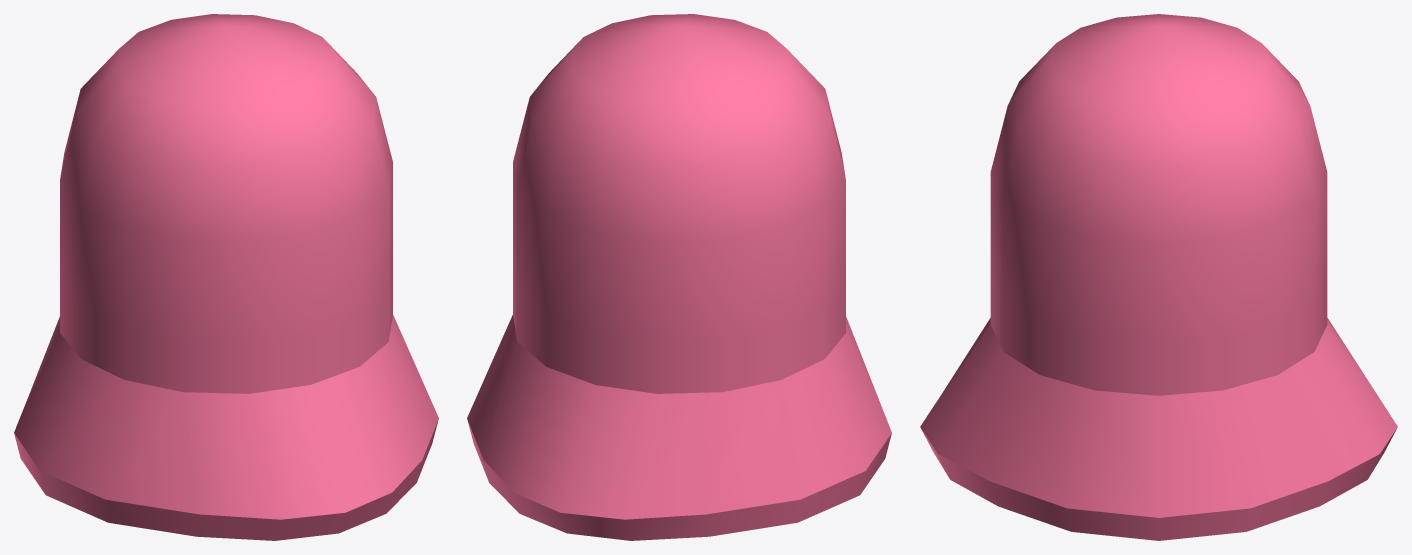
Rendered from Arm_City_LSleeve_Pink_01_L.fbx.
3 views of the same model, side by side, from view 1: azimuth 30°, elevation 25°; view 2: azimuth 150°, elevation 25°; view 3: azimuth 270°, elevation 25° (orthographic).
Parts seen in each view (by area): view 1: Arm_City_LSleeve_Pink_01_L; view 2: Arm_City_LSleeve_Pink_01_L; view 3: Arm_City_LSleeve_Pink_01_L.
Boxes of the visible parts, box(x1,y1,x2,y2) form: Arm_City_LSleeve_Pink_01_L: box(14, 14, 438, 540); Arm_City_LSleeve_Pink_01_L: box(467, 14, 891, 540); Arm_City_LSleeve_Pink_01_L: box(920, 14, 1397, 540).
Size of the model in its own units: 56.37 by 65.12 by 62.48.
